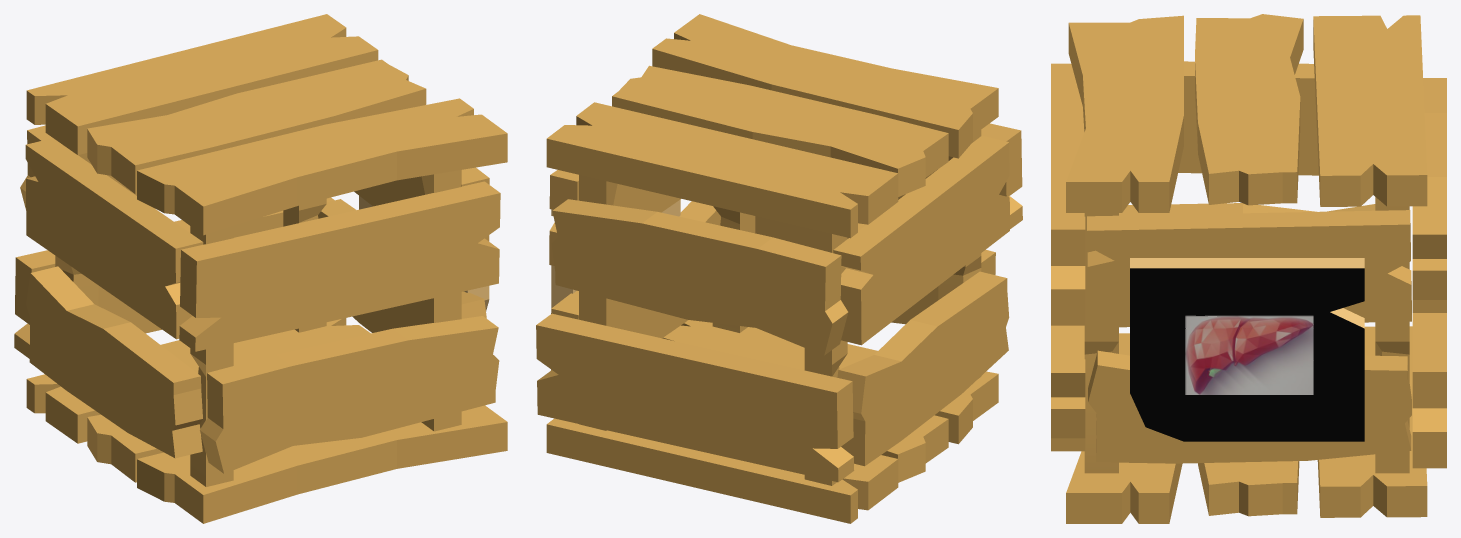
File: BoxLiver.fbx
The picture shows the model from 3 angles, left to right: view 1: azimuth 30°, elevation 25°; view 2: azimuth 150°, elevation 25°; view 3: azimuth 270°, elevation 25°; orthographic projection. The views are drawn at different scales.
Parts seen in each view (by area): view 1: Box_Liver; view 2: Box_Liver; view 3: Box_Liver.
Boxes of the visible parts, box(x1,y1,x2,y2) form: Box_Liver: box(14, 14, 507, 523); Box_Liver: box(536, 14, 1022, 523); Box_Liver: box(1051, 14, 1446, 523).
Size of the model in its own units: 57.66 by 60.47 by 54.96.
